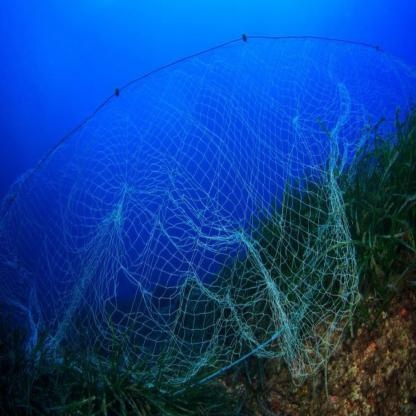net: (31, 42, 362, 376)
